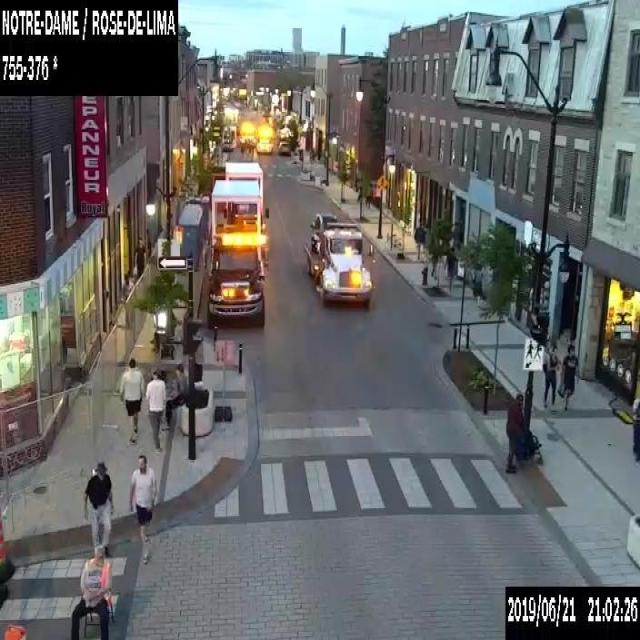construction: (0, 502, 15, 578), (2, 624, 26, 639)
pedestrian: (71, 544, 117, 638), (128, 454, 157, 562), (504, 391, 542, 472), (83, 460, 113, 556), (118, 356, 144, 445), (145, 366, 165, 453), (162, 363, 186, 430), (556, 343, 578, 409), (541, 344, 560, 410), (133, 234, 145, 278), (631, 396, 639, 459), (445, 244, 457, 283)
vehicle: (206, 179, 265, 326), (304, 212, 372, 302), (224, 160, 268, 220), (256, 124, 274, 152), (239, 120, 256, 145), (221, 124, 236, 150), (277, 140, 290, 156)
